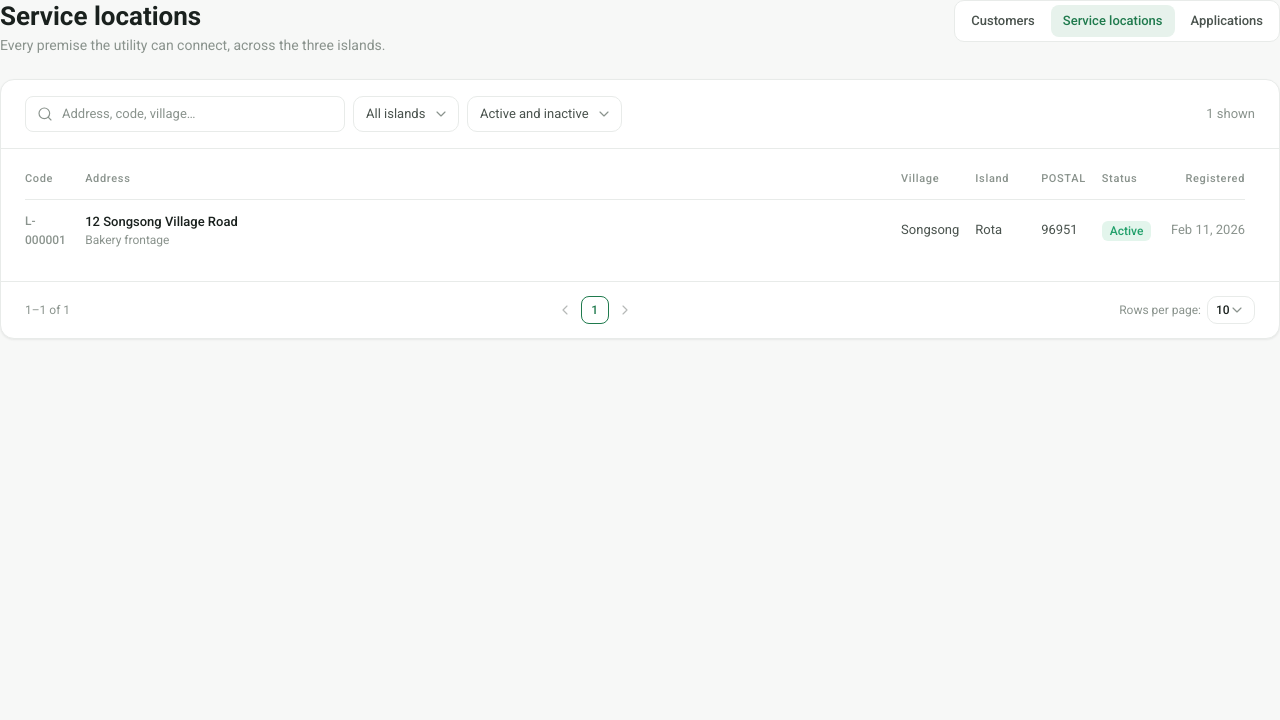
Test: ServiceLocationsPage › says a premise is free when no account has ever been opened there
Expected: the text "12 Songsong Village Road" is shown, [85, 214, 238, 229]
Click the button "12 Songsong Village Road Bakery frontage". click: click(161, 222)
box: [85, 213, 885, 248]
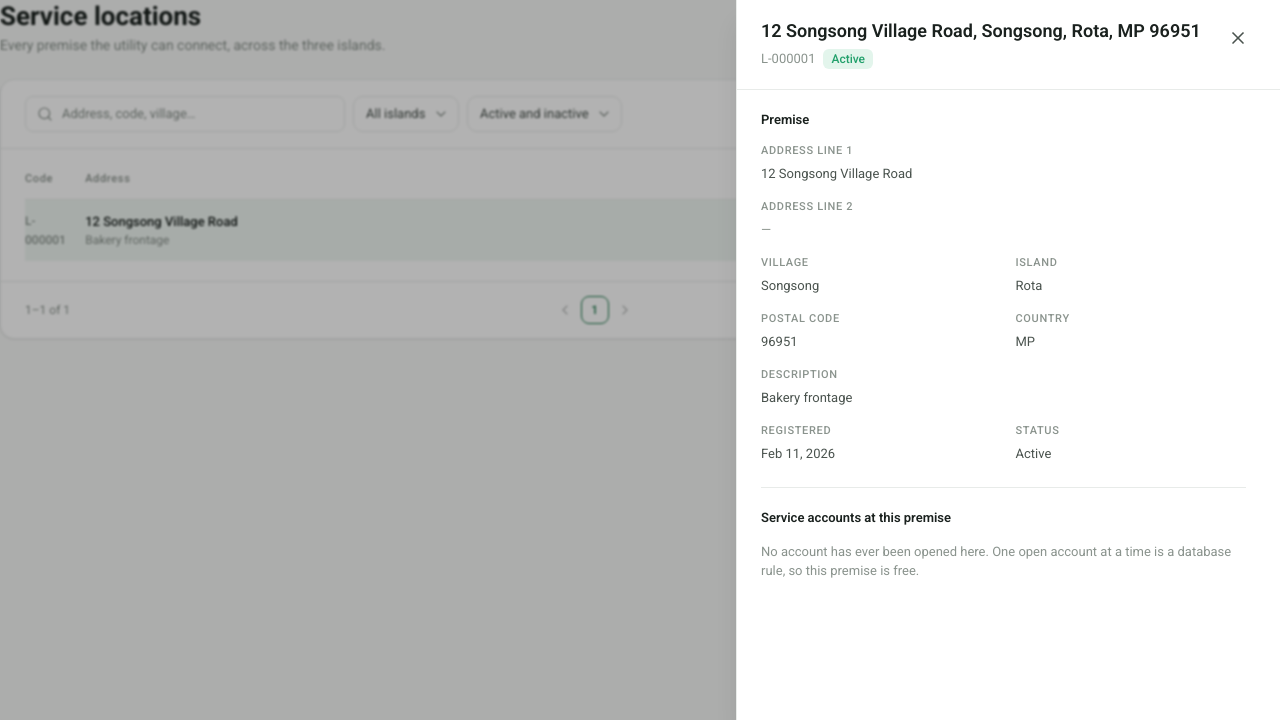
Expected: the text "this premise is free" is shown, [761, 544, 1231, 578]
